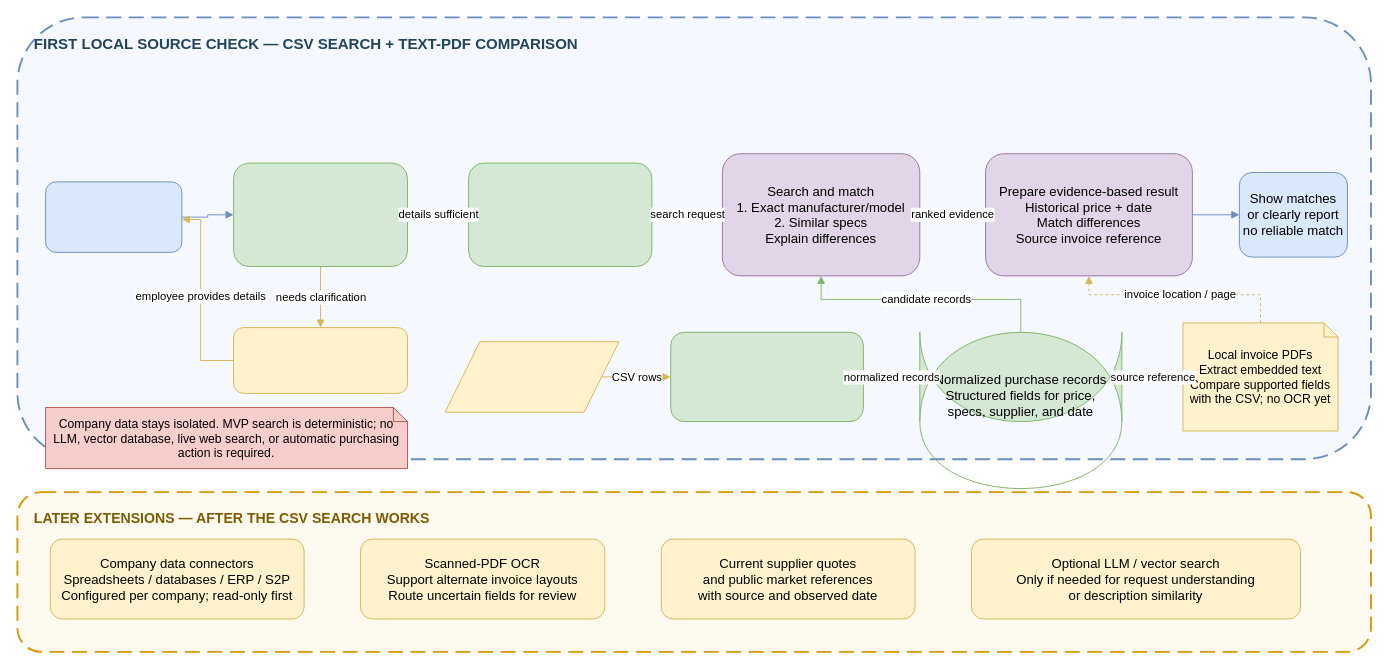
Image size: 1387x668. Some labels were removed from this diagram. Here are the shapes that lost their labels. From the top down, the centre of each, then its label:
At [113,216]: "Employee purchase request".
At [320,214]: "Request intake and validation (no UI required yet)".
At [560,214]: "Normalized request product + requirements (e.g. 14 in, 16 GB RAM)".
At [320,360]: "Ask for missing key details".
At [531,376]: "Sample input purchase_history.csv".
At [766,376]: "Load and normalize CSV fields into common purchase record format".
